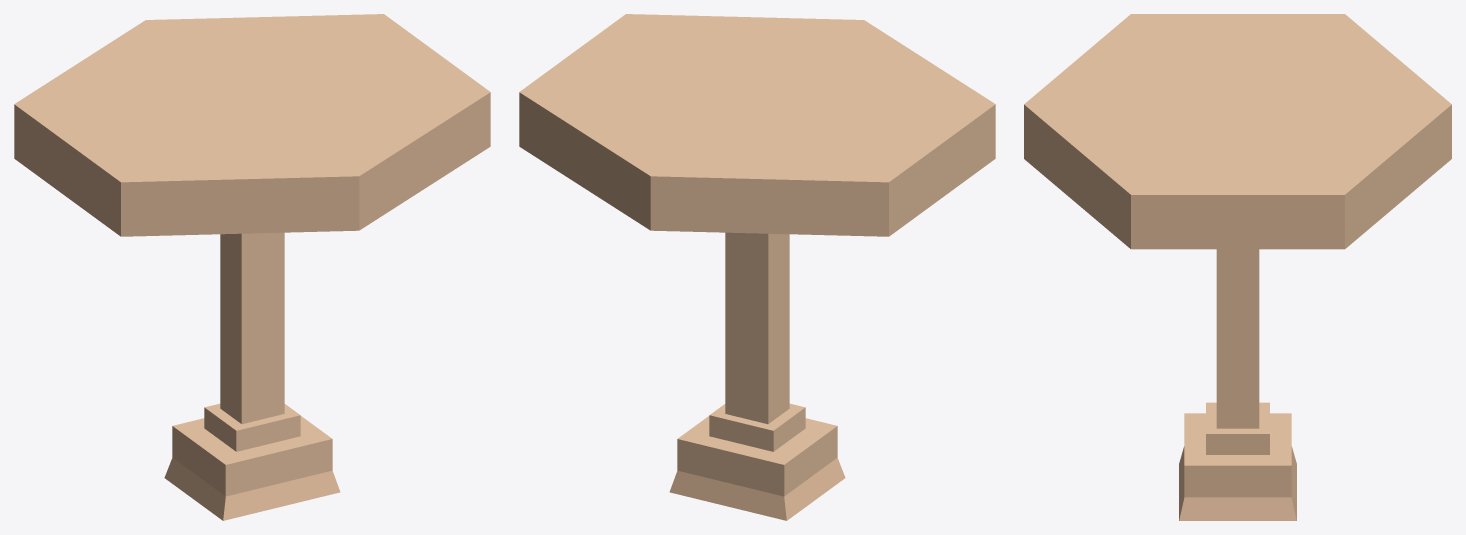
Rendered from kn-table-round.glb.
The picture shows the model from 3 angles, left to right: view 1: azimuth 30°, elevation 25°; view 2: azimuth 150°, elevation 25°; view 3: azimuth 270°, elevation 25°; orthographic projection.
Visible parts, largest first — view 1: tableRound(Clone); view 2: tableRound(Clone); view 3: tableRound(Clone).
Part boxes in pixels (box(x1,y1,x2,y2)): tableRound(Clone): box(14, 14, 490, 520); tableRound(Clone): box(519, 14, 995, 520); tableRound(Clone): box(1024, 14, 1451, 520).
Bounding box in the file's own units: 1 × 1 × 1.
